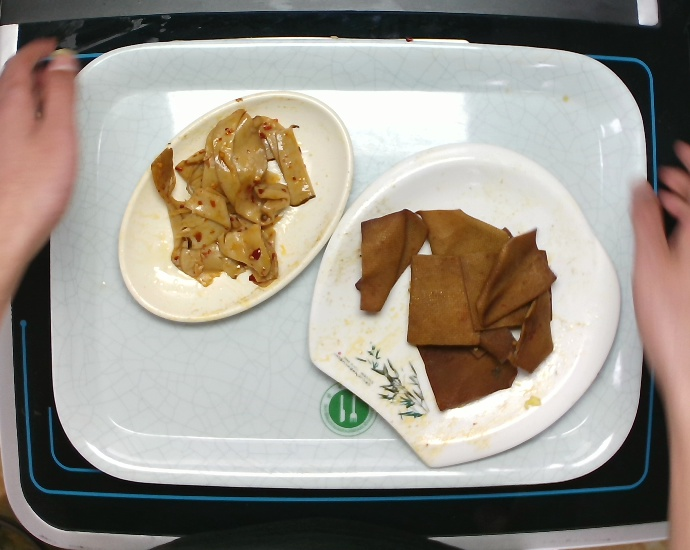JYsf-Mian_Pan: (299, 140, 624, 474)
JYsf-Tuo_Yuan_Wan: (115, 88, 361, 328)
